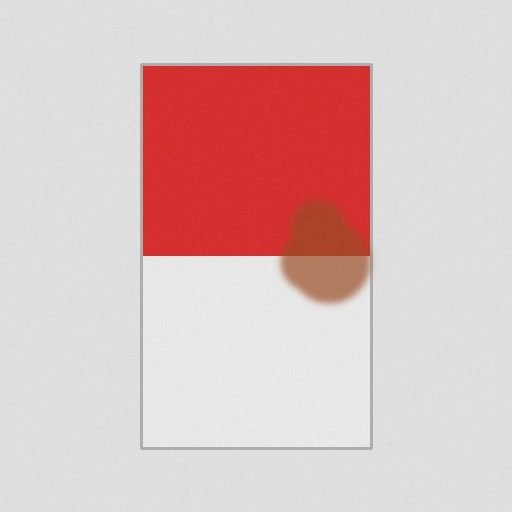surface_abnormality: (255, 193, 367, 305)
